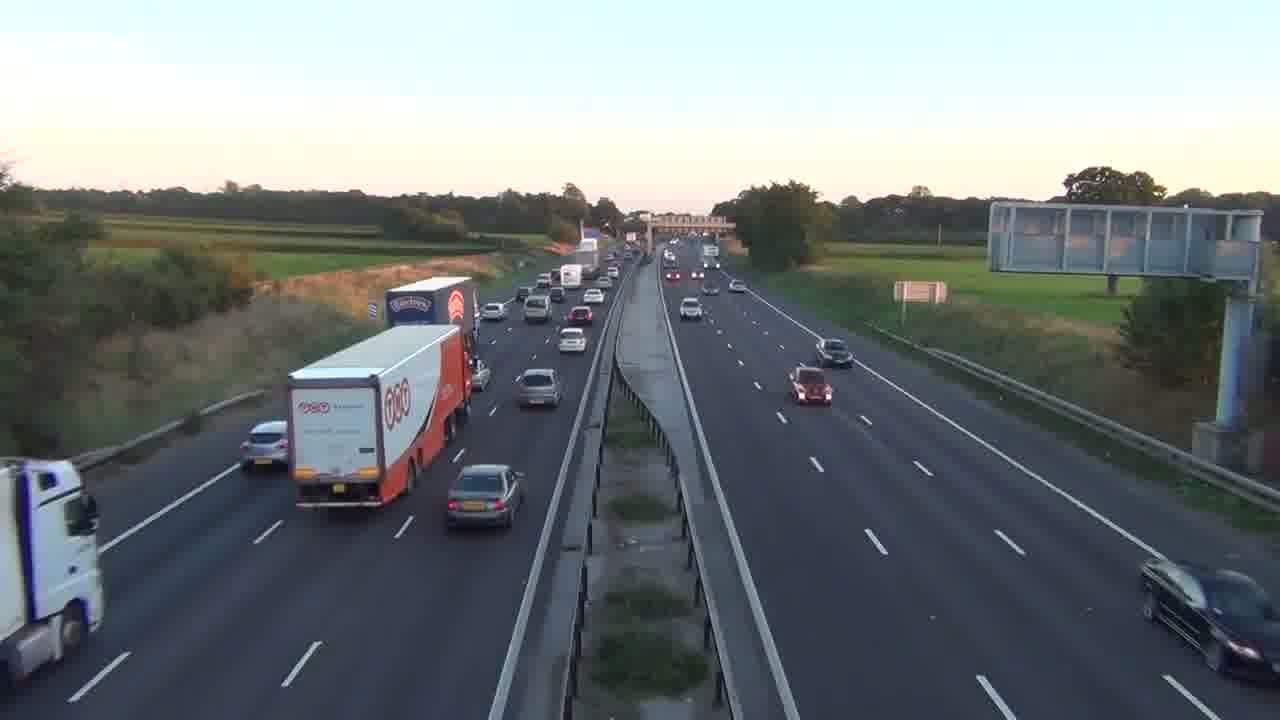car: (444, 463, 527, 530), (238, 419, 290, 472), (785, 363, 833, 407), (513, 367, 564, 408), (815, 338, 854, 368), (523, 292, 551, 324), (558, 331, 587, 355), (679, 296, 703, 320), (566, 305, 593, 326), (481, 301, 506, 319)
truck: (287, 321, 469, 510), (0, 458, 109, 691), (1138, 556, 1280, 682), (383, 274, 482, 371)
